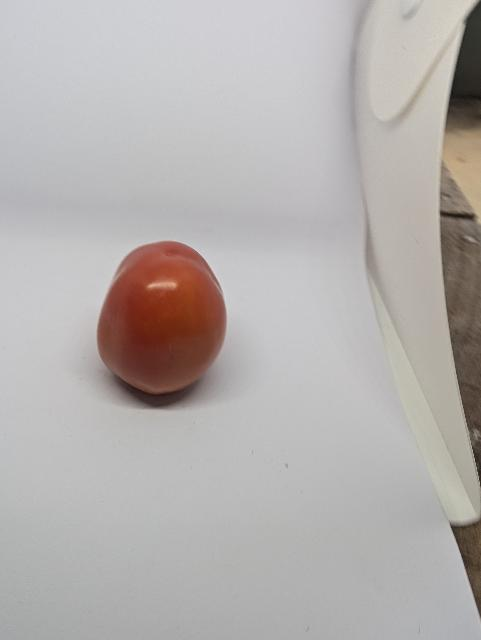red: (78, 226, 253, 411)
